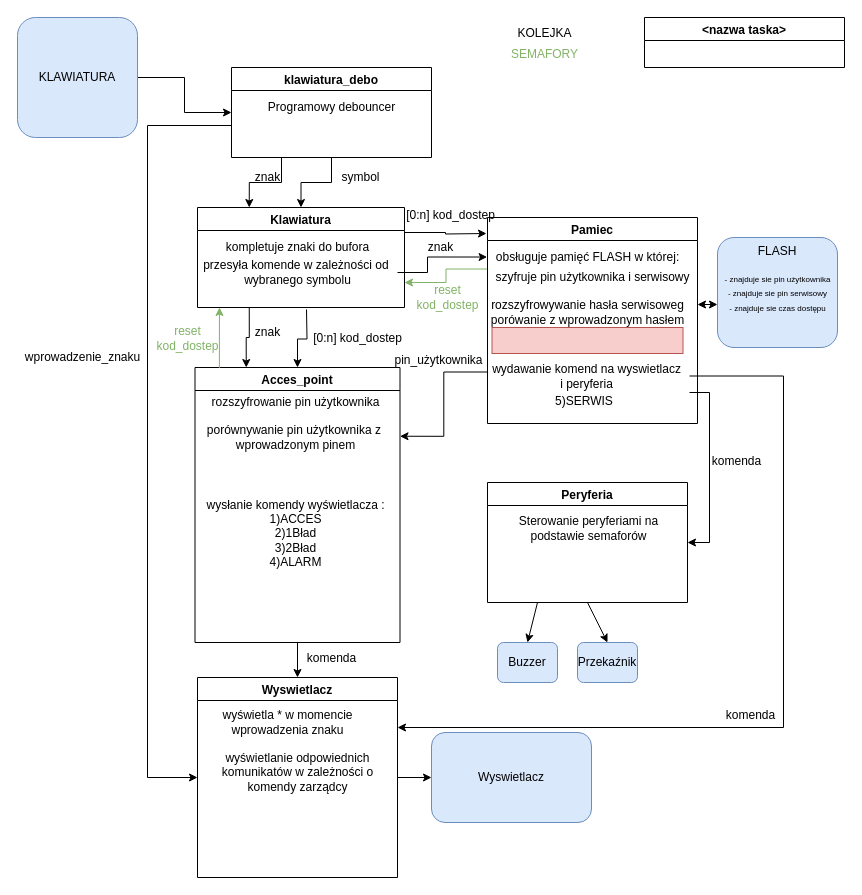
The diagram is 862 pixels wide and 895 high, and some of its shapes have lost their labels. Each missing label, with the centre of its shape:
"<czynności>" belongs at (x=744, y=42).
"zarzadzanie trybem serwisowym" belongs at (x=587, y=340).
